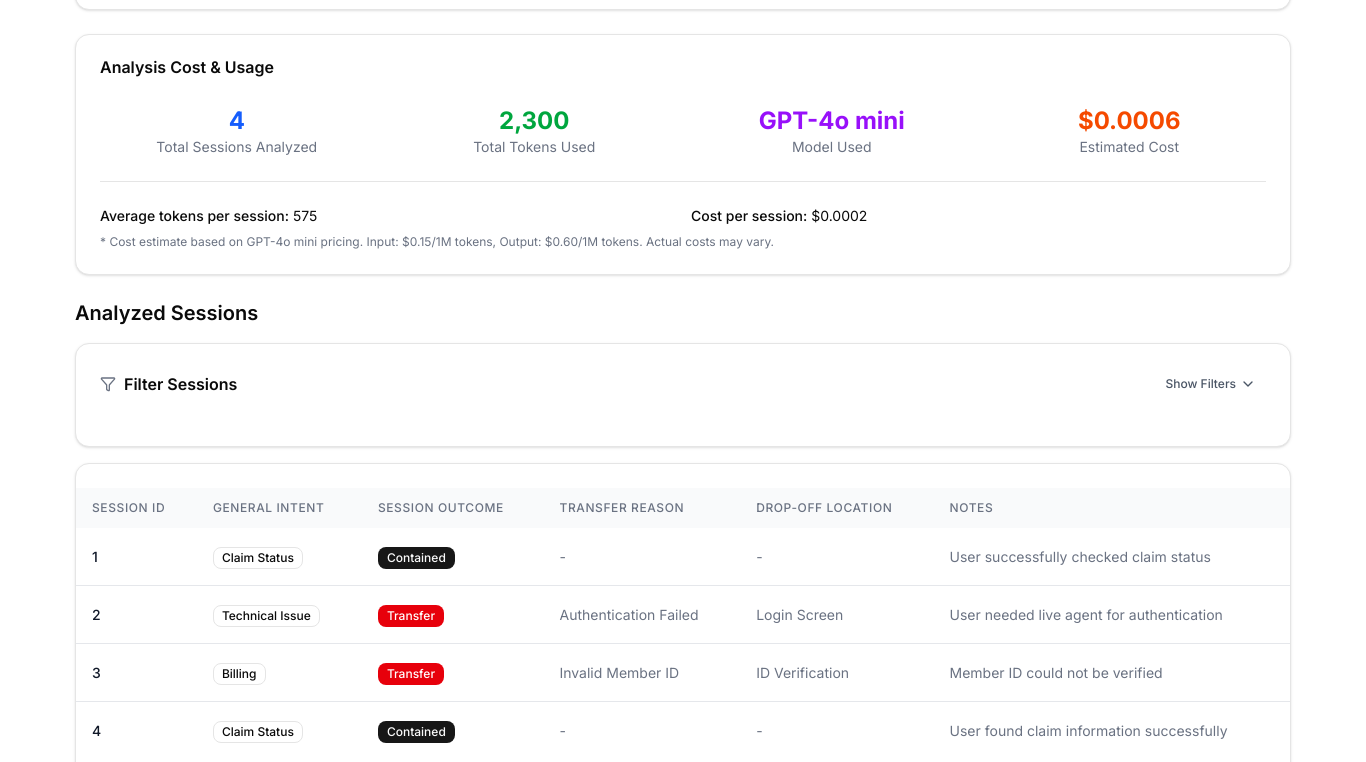
Test: AnalysisReportView - Enhanced Filtering › Filter UI Components › shows all four filter dropdowns when expanded
(page scrolled)
Click to expand filters
Click the button "Show Filters" at (1211, 384), box 1155,368 -> 1266,400
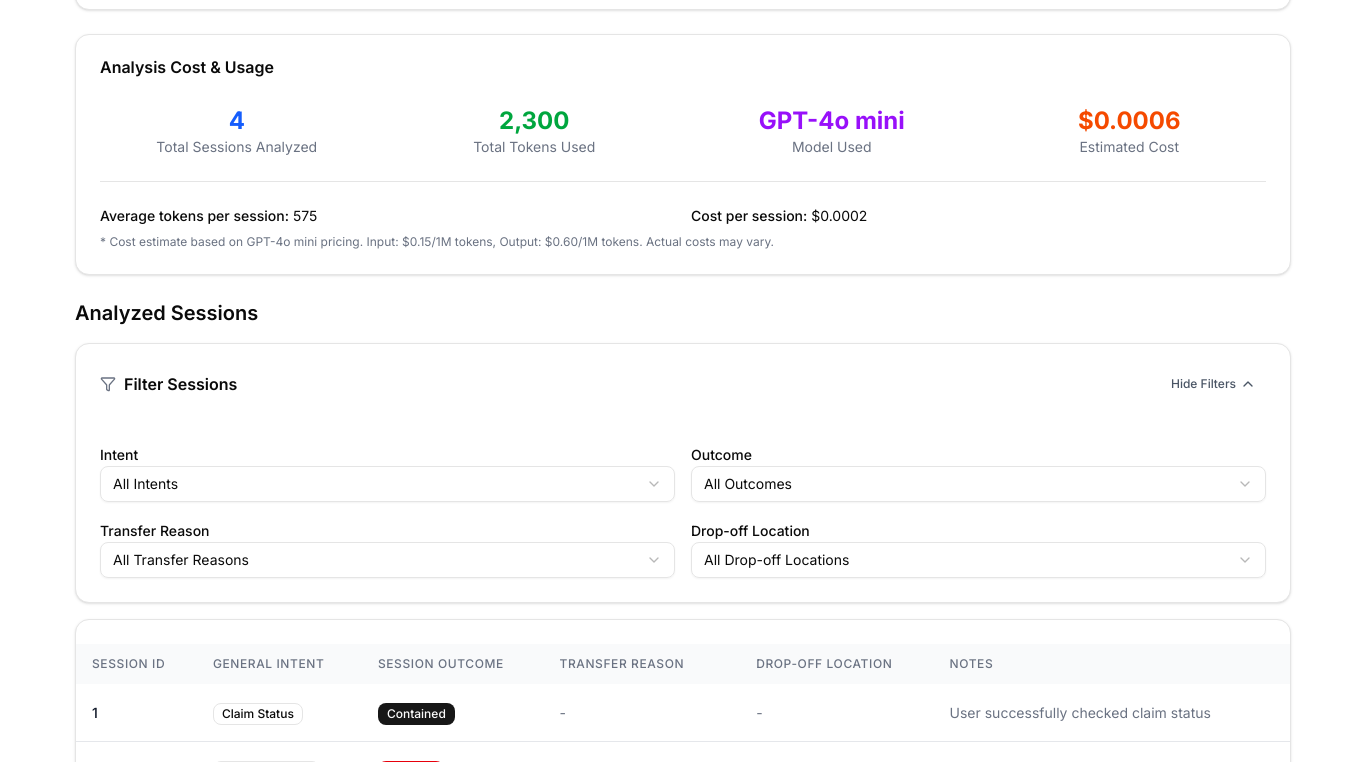
Check: the dropdown labelled "Intent" is shown, box 100,466 -> 675,502
Check: the dropdown labelled "Outcome" is shown, box 691,466 -> 1266,502
Check: the dropdown labelled "Transfer Reason" is shown, box 100,542 -> 675,578
